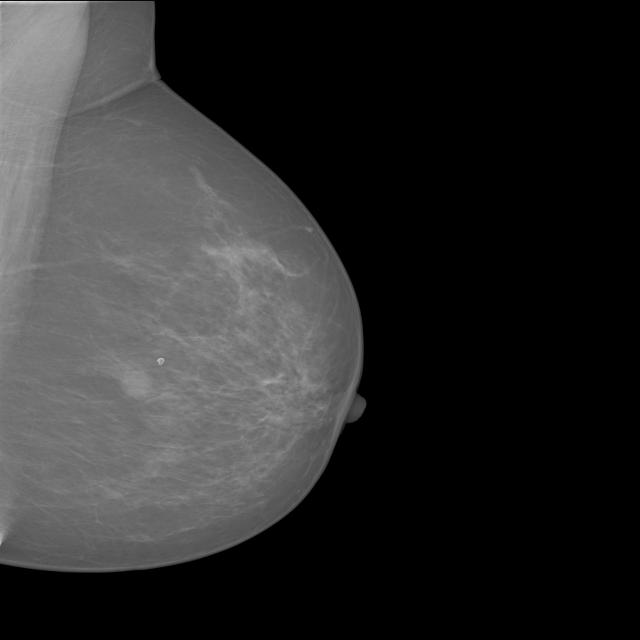Mass_1: (100, 354, 172, 414)
